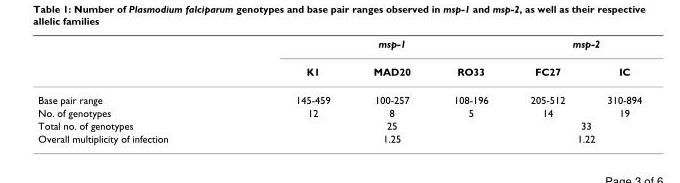table: (37, 37, 641, 144)
table column: (37, 37, 231, 144), (231, 37, 351, 144), (351, 37, 431, 144), (431, 37, 508, 144), (508, 37, 585, 144), (585, 37, 641, 144)
table column header: (37, 37, 641, 85)
table row: (37, 57, 641, 85), (37, 37, 641, 57), (37, 85, 641, 105), (37, 105, 641, 118), (37, 118, 641, 131), (37, 131, 641, 144)
table spanning cell: (231, 37, 508, 57), (231, 118, 508, 131), (231, 131, 508, 144), (508, 37, 641, 57), (508, 118, 641, 131), (508, 131, 641, 144)
